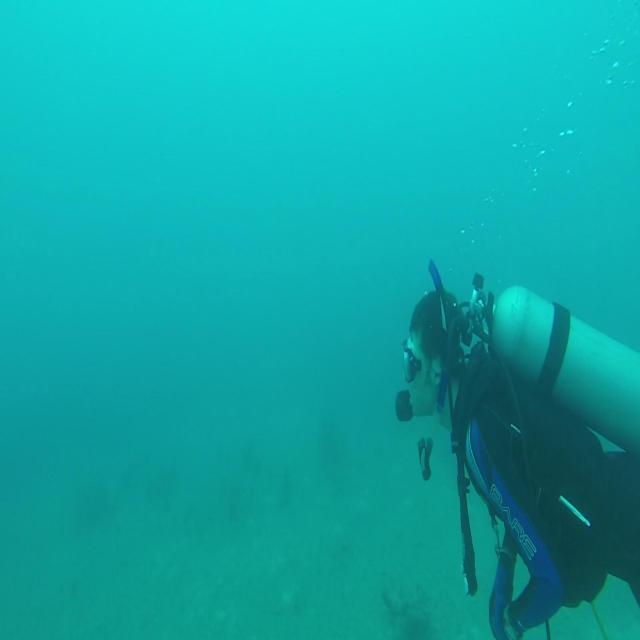human: (395, 266, 639, 638)
